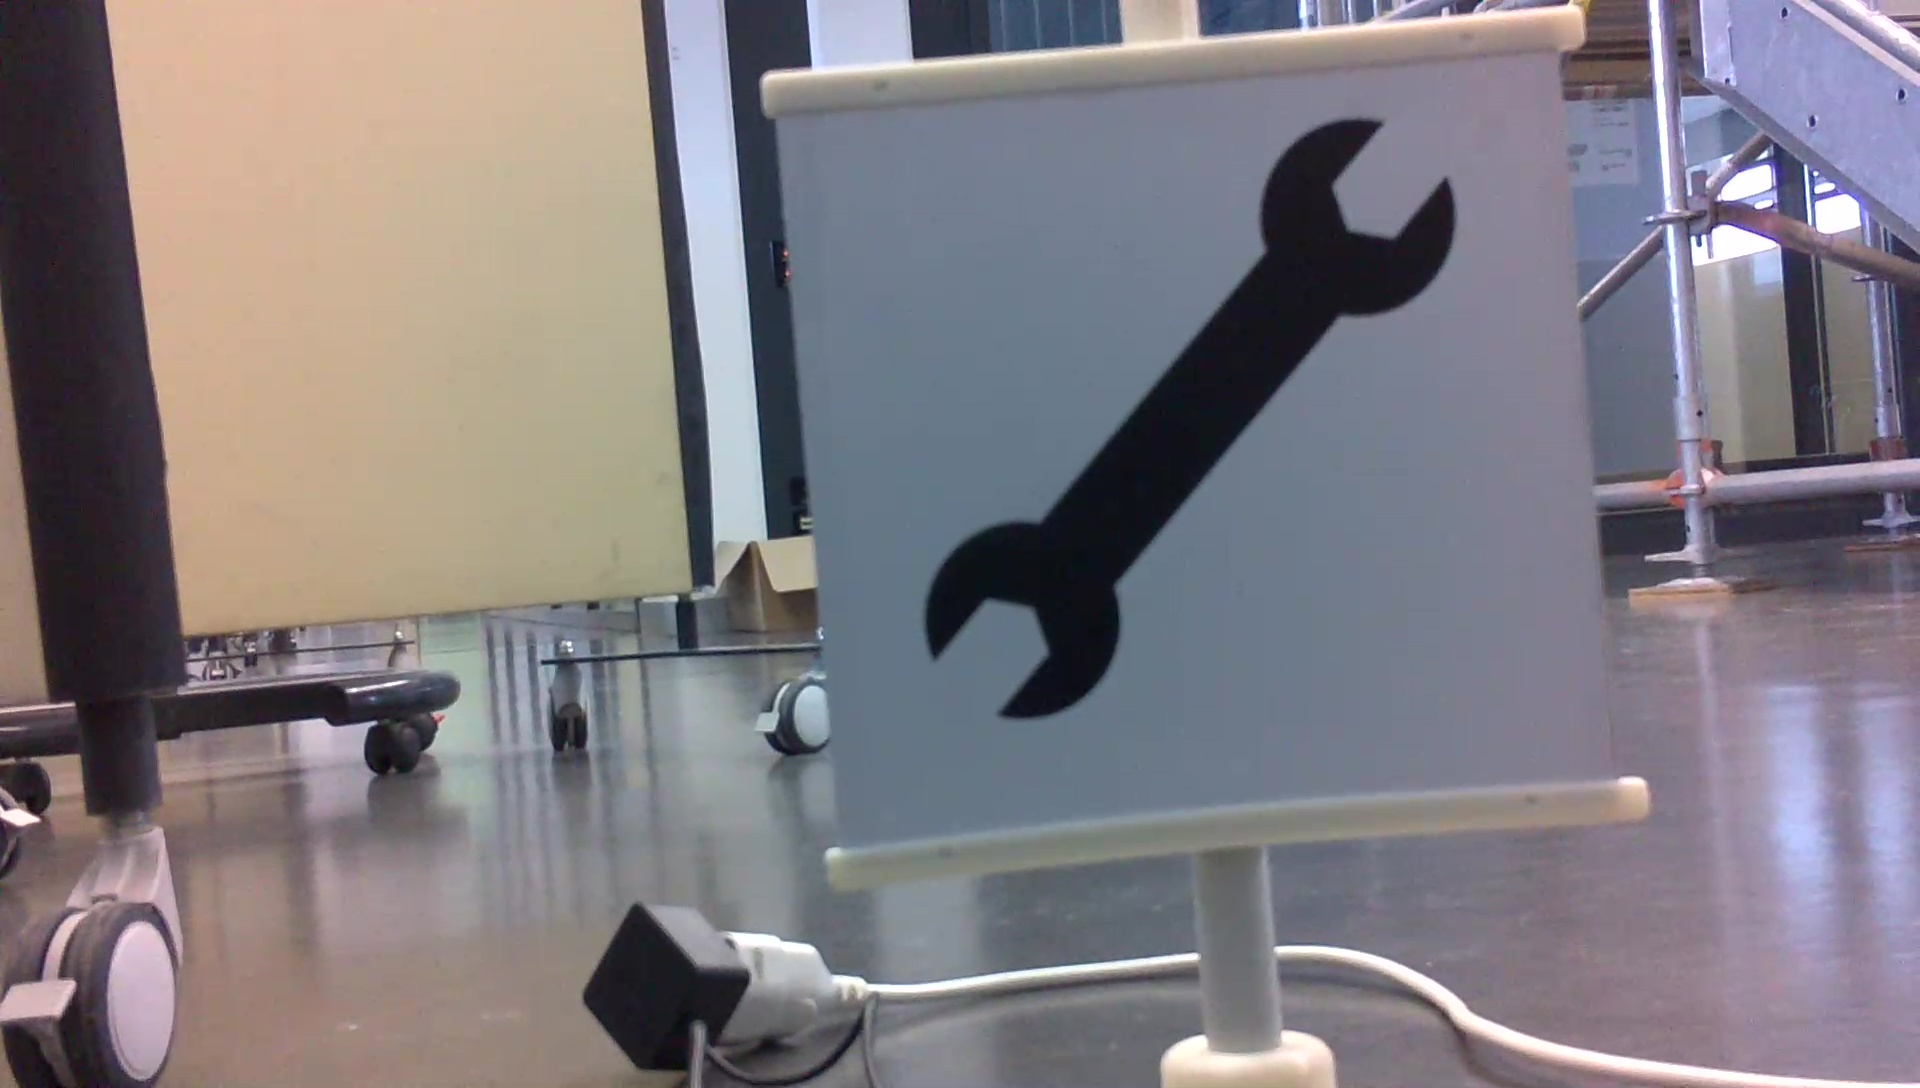wrench: (905, 106, 1466, 727)
